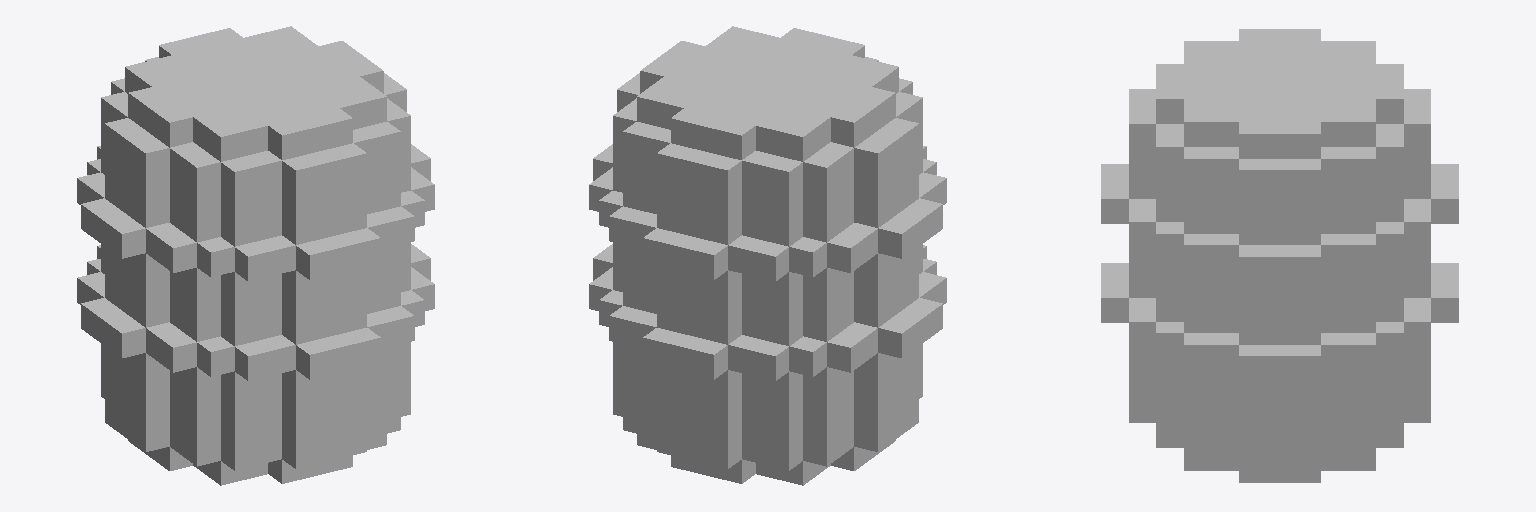
Rendered from barrel.obj.
3 views of the same model, side by side, from view 1: azimuth 30°, elevation 25°; view 2: azimuth 150°, elevation 25°; view 3: azimuth 270°, elevation 25° (orthographic).
Bounding box in the file's own units: 13 × 14 × 13.